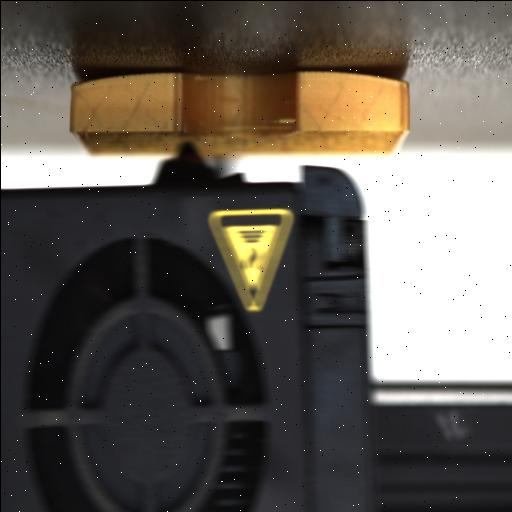warp: (338, 63, 416, 103), (64, 65, 150, 101)
